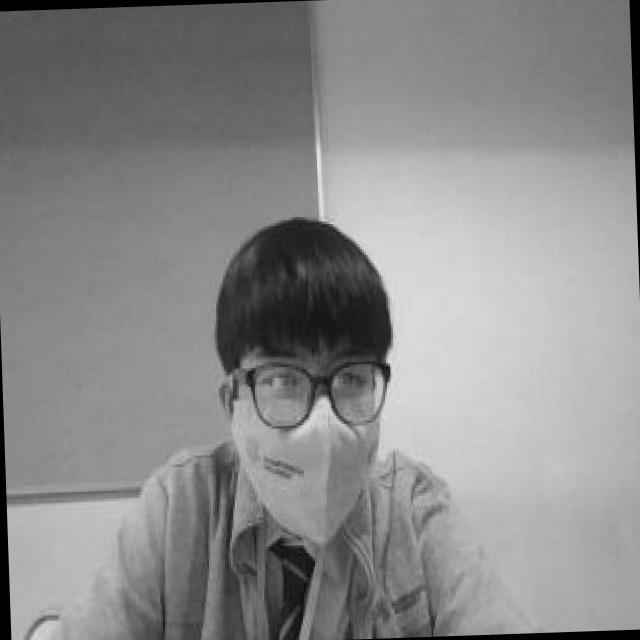Focused: (242, 300, 396, 514)
